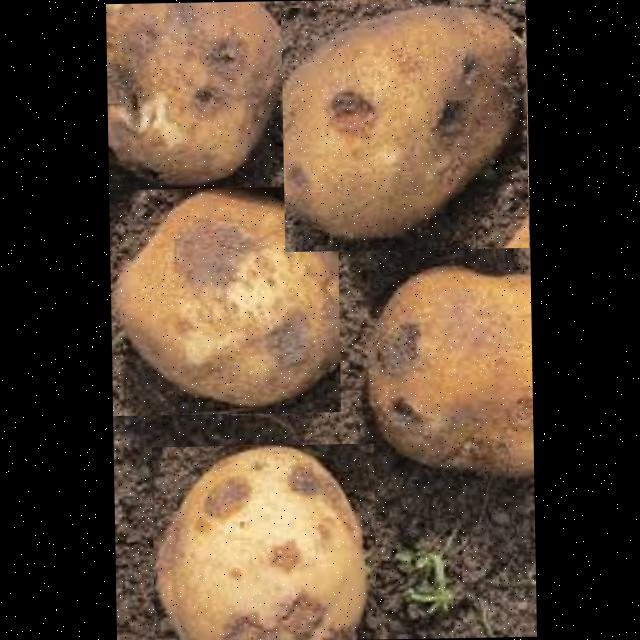Damaged potato: (280, 3, 528, 252), (108, 186, 340, 416), (150, 443, 375, 640), (362, 256, 532, 478), (106, 1, 296, 188)
